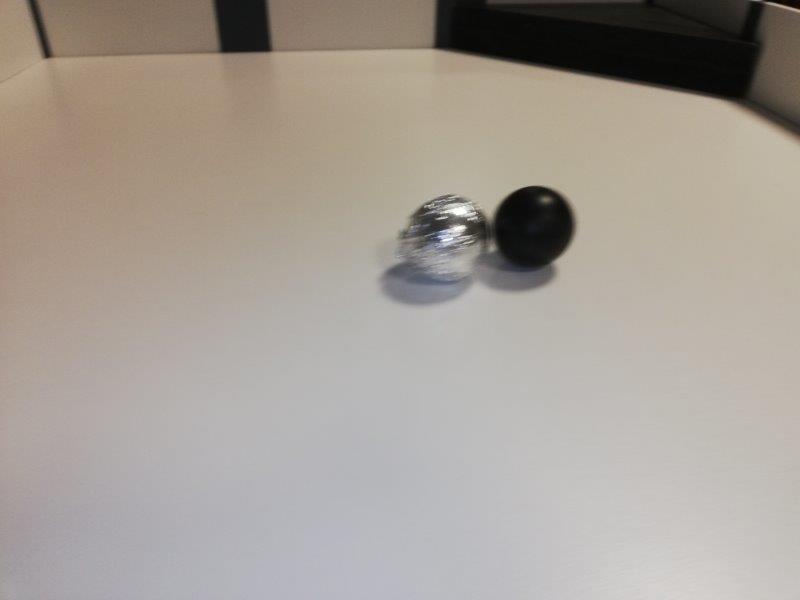bianca: (392, 190, 489, 285)
nera: (493, 188, 575, 266)
